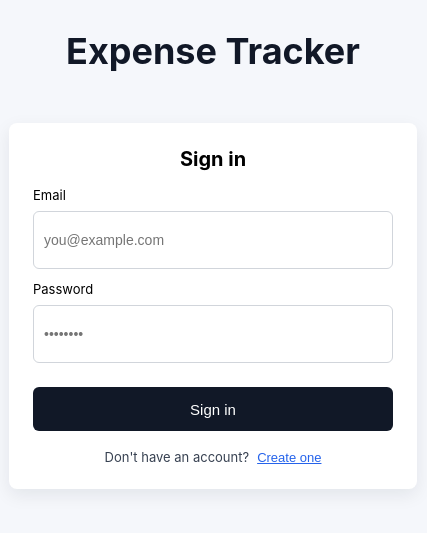
Test: Login Component › Form Validation › should show error for invalid email format
Type "invalid-email" into the field with placeholder "you@example.com" at [213, 240], box [33, 211, 393, 269]
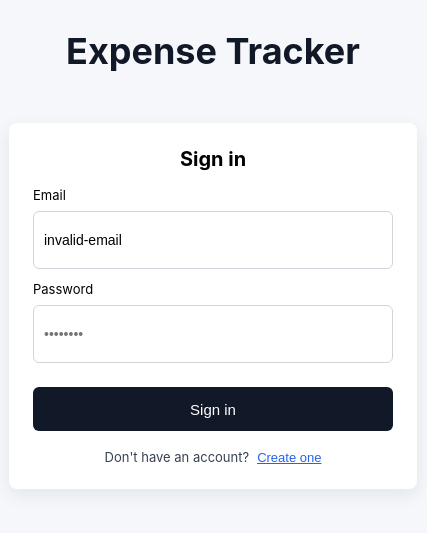
Type "password123" into the password field with placeholder "••••••••" at [213, 334], box [33, 305, 393, 363]
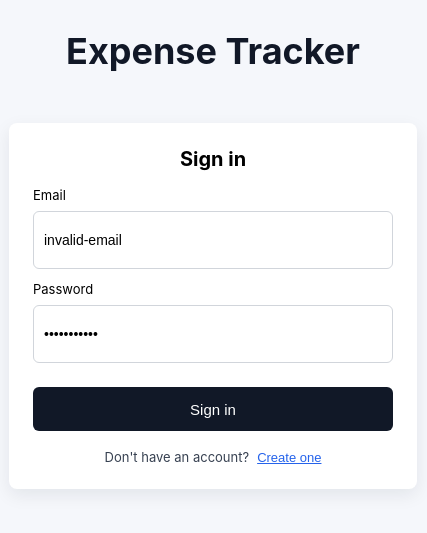
Click the button "Sign in" at [213, 409], box [33, 387, 393, 431]
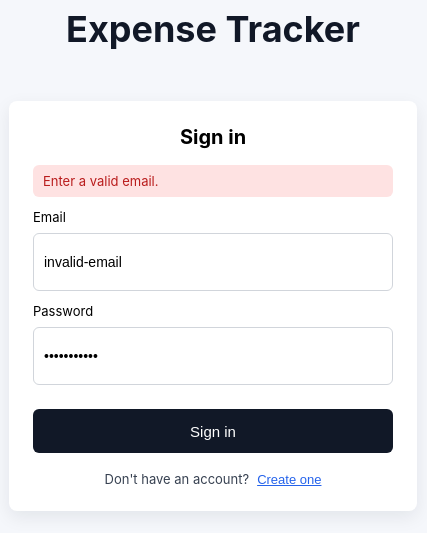
Check: the text "Enter a valid email." is shown, box [33, 165, 393, 197]
